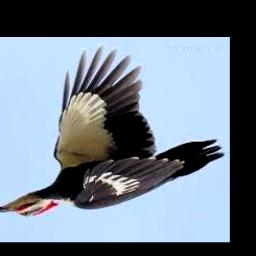Woodpecker: (0, 46, 225, 217)
